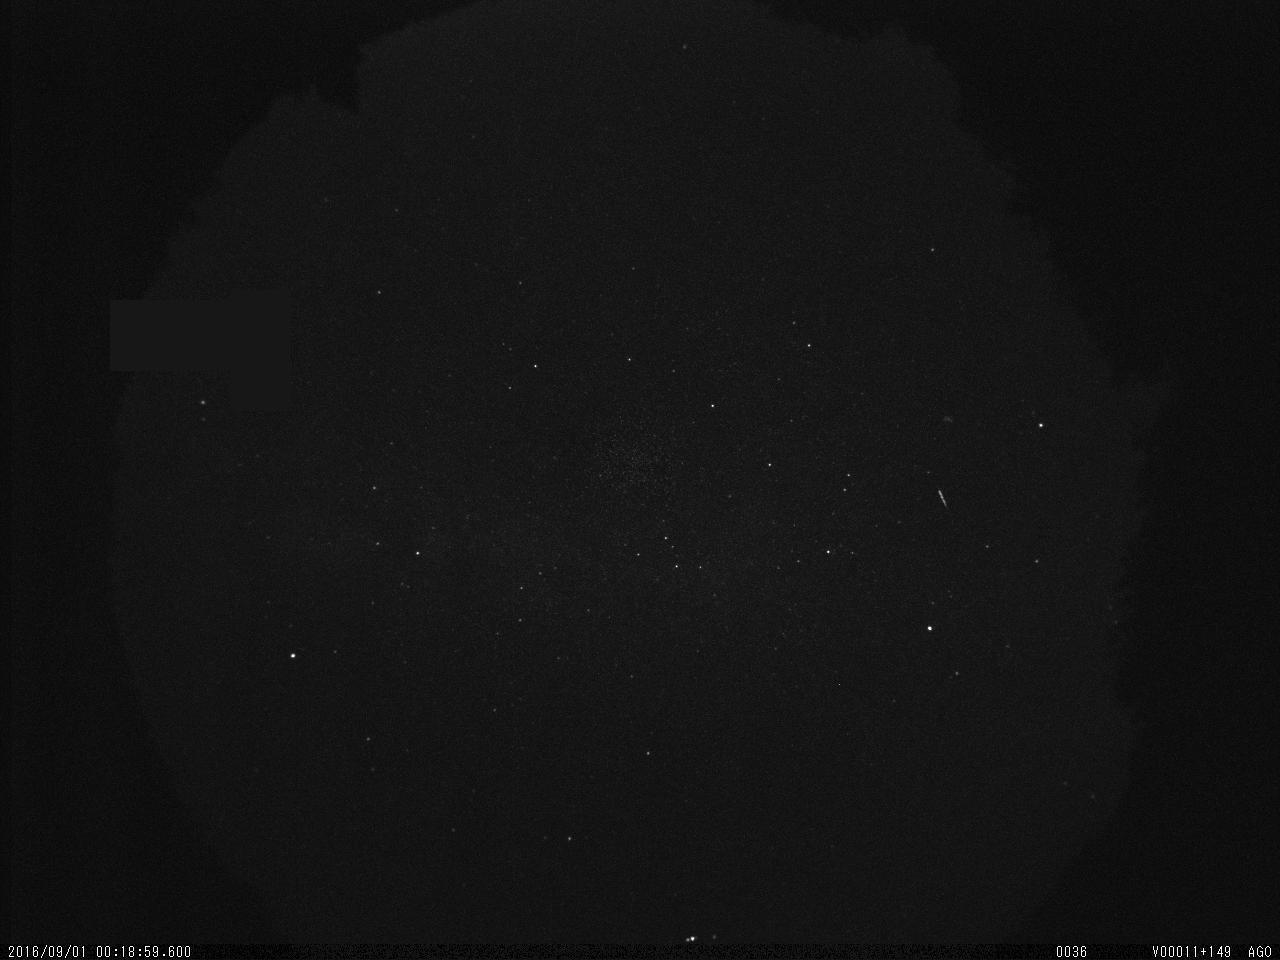meteor: (929, 481, 955, 517)
